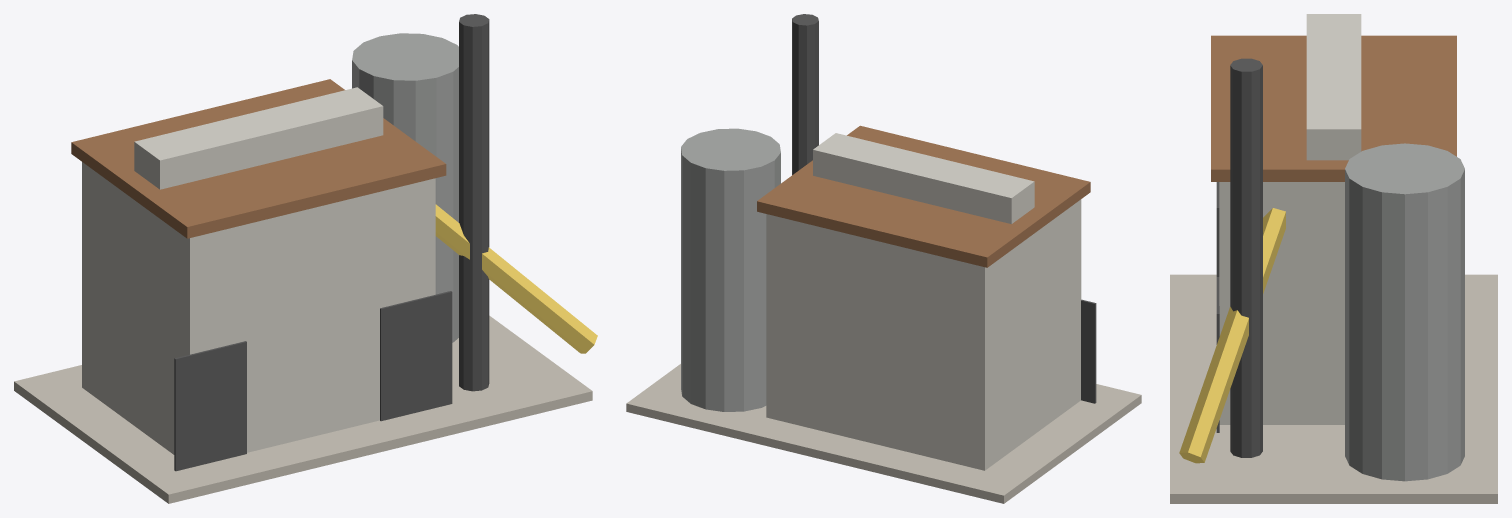
Rendered from PotashPlant.glb.
The picture shows the model from 3 angles, left to right: view 1: azimuth 30°, elevation 25°; view 2: azimuth 150°, elevation 25°; view 3: azimuth 270°, elevation 25°; orthographic projection. The views are drawn at different scales.
Visible parts, largest first — view 1: Drying shed, Plinth, Shed roof, Roof monitor, Product silo, Dust stack, Loading door.001, Loading door, Limb.026; view 2: Drying shed, Product silo, Shed roof, Plinth, Roof monitor, Dust stack, Loading door; view 3: Product silo, Plinth, Shed roof, Drying shed, Dust stack, Roof monitor, Limb.026, Loading door.
Part boxes in pixels (x1,y1,x2,y2): Drying shed: (82,162,435,454); Plinth: (14,315,592,503); Shed roof: (71,79,446,238); Roof monitor: (134,87,383,189); Product silo: (352,33,458,342); Dust stack: (459,14,489,391); Loading door.001: (380,291,452,421); Loading door: (174,341,246,471); Limb.026: (435,204,597,353); Drying shed: (766,199,1081,470); Product silo: (681,128,780,411); Shed roof: (757,125,1090,267); Plinth: (626,364,1141,503); Roof monitor: (813,133,1034,223); Dust stack: (792,14,818,174); Loading door: (1081,299,1096,403); Product silo: (1345,143,1464,481); Plinth: (1170,274,1497,503); Shed roof: (1211,35,1456,181); Drying shed: (1219,182,1344,424); Dust stack: (1230,58,1262,457); Roof monitor: (1306,14,1361,160); Limb.026: (1179,208,1285,463); Loading door: (1216,182,1219,276).
Size of the model in its own units: 9.82 by 8 by 6.
